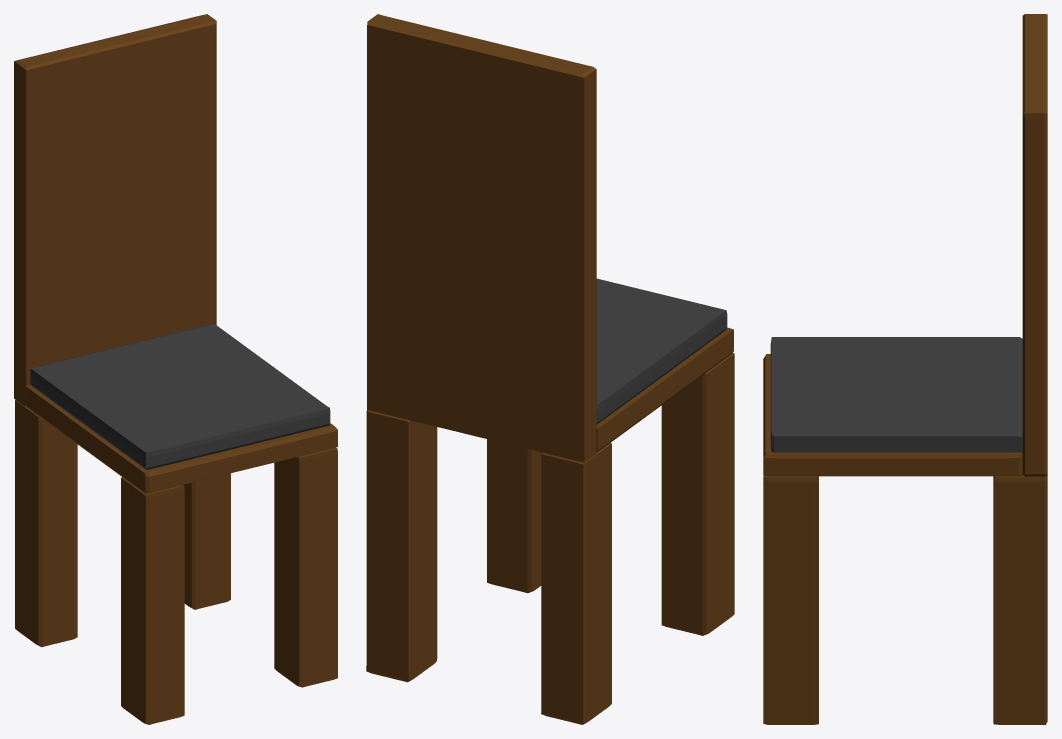
File: Chair.fbx
3 views of the same model, side by side, from view 1: azimuth 30°, elevation 25°; view 2: azimuth 150°, elevation 25°; view 3: azimuth 270°, elevation 25° (orthographic). The views are drawn at different scales.
Visible parts, largest first — view 1: Cube.001, Cube.006, Cube.004, Cube.005, Cube.002, Cube, Cube.003; view 2: Cube.001, Cube.002, Cube.004, Cube.003, Cube.006, Cube.005, Cube; view 3: Cube.006, Cube.005, Cube.003, Cube.001, Cube.
Part boxes in pixels (x1,y1,x2,y2): Cube.001: (14,14,216,406); Cube.006: (30,323,330,469); Cube.004: (121,477,184,724); Cube.005: (274,447,337,687); Cube.002: (15,400,77,647); Cube: (25,385,337,493); Cube.003: (183,473,230,609); Cube.001: (367,14,596,462); Cube.002: (541,442,611,724); Cube.004: (661,353,734,635); Cube.003: (366,409,437,682); Cube.006: (596,278,727,424); Cube.005: (487,439,541,593); Cube: (596,327,733,452); Cube.006: (770,337,1022,452); Cube.005: (763,474,818,724); Cube.003: (993,475,1047,724); Cube.001: (1022,14,1047,476); Cube: (763,354,1022,476).
Size of the model in its own units: 226 by 642 by 270.
